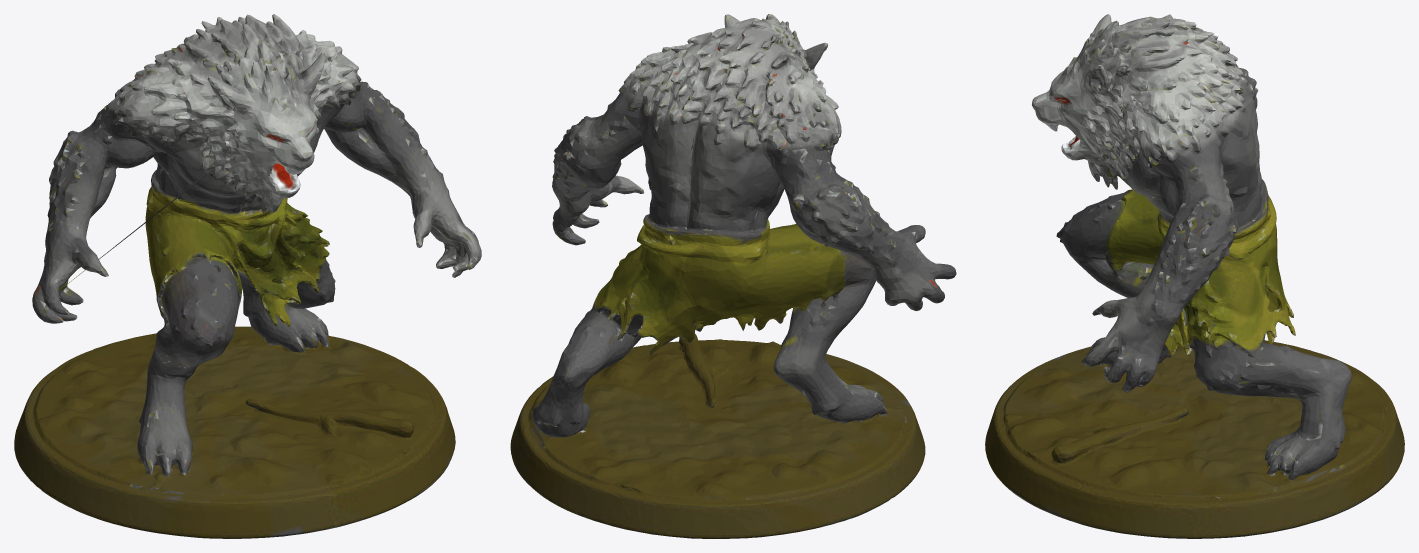
The model's file is lobisomem.glb.
3 views of the same model, side by side, from view 1: azimuth 30°, elevation 25°; view 2: azimuth 150°, elevation 25°; view 3: azimuth 270°, elevation 25° (orthographic). The views are drawn at different scales.
Visible parts, largest first — view 1: tmpxt1qaxgm.ply; view 2: tmpxt1qaxgm.ply; view 3: tmpxt1qaxgm.ply.
Boxes of the visible parts, x1=… form: tmpxt1qaxgm.ply: x1=14, y1=14, x2=481, y2=538; tmpxt1qaxgm.ply: x1=510, y1=14, x2=956, y2=538; tmpxt1qaxgm.ply: x1=985, y1=14, x2=1404, y2=538.
Size of the model in its own units: 1.95 by 1.96 by 1.74.
1 material, 1 textured.
